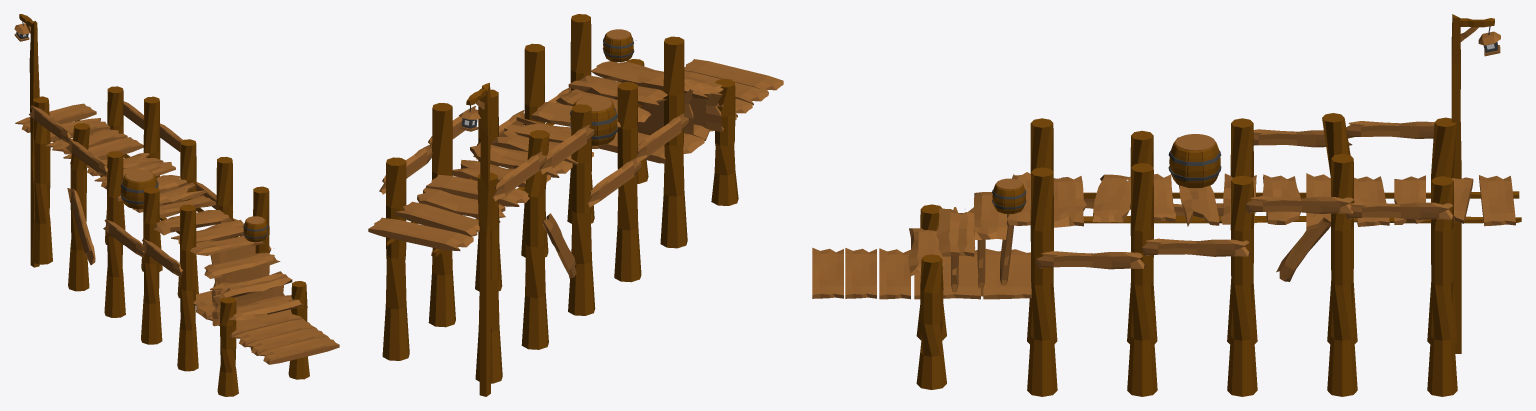
File: port.fbx
The picture shows the model from 3 angles, left to right: view 1: azimuth 30°, elevation 25°; view 2: azimuth 150°, elevation 25°; view 3: azimuth 270°, elevation 25°; orthographic projection. The views are drawn at different scales.
Visible parts, largest first — view 1: 圓柱體.009, 圓柱體.005, 圓柱體.007, 圓柱體.008, 圓柱體.006, 圓柱體.010, 立方體, Cube.018, 圓柱體.003, Cube.013, Cube.012, Cube.015 (+34 smaller); view 2: 圓柱體.006, 圓柱體.009, 圓柱體.007, 圓柱體.008, 圓柱體.004, 立方體, 圓柱體.003, 圓柱體.010, 圓柱體.005, Cube.014, 圓柱體.001, 圓柱體 (+26 smaller); view 3: 圓柱體.003, 圓柱體, 圓柱體.001, 圓柱體.004, 圓柱體.002, 圓柱體.011, 立方體, Cube.030, 圓柱體.007, 圓柱體.005, Cube.020, Cube.019 (+30 smaller).
Part boxes in pixels (box(x1,y1,x2,y2)): 圓柱體.009: box(177, 204, 198, 371); 圓柱體.005: box(31, 96, 52, 264); 圓柱體.007: box(104, 151, 125, 317); 圓柱體.008: box(141, 187, 162, 344); 圓柱體.006: box(68, 123, 89, 291); 圓柱體.010: box(217, 296, 238, 396); 立方體: box(29, 21, 39, 267); Cube.018: box(257, 336, 339, 364); 圓柱體.003: box(141, 96, 162, 271); Cube.013: box(210, 271, 292, 298); Cube.012: box(204, 252, 280, 278); Cube.015: box(229, 295, 303, 320); 圓柱體.006: box(521, 130, 549, 349); 圓柱體.009: box(660, 36, 687, 248); 圓柱體.007: box(568, 104, 595, 315); 圓柱體.008: box(614, 82, 641, 282); 圓柱體.004: box(382, 157, 409, 360); 立方體: box(479, 83, 491, 396); 圓柱體.003: box(428, 103, 455, 327); 圓柱體.010: box(711, 79, 738, 205); 圓柱體.005: box(475, 172, 502, 383); Cube.014: box(368, 217, 473, 250); 圓柱體.001: box(521, 43, 548, 257); 圓柱體: box(567, 14, 594, 223); 圓柱體.003: box(1327, 153, 1357, 396); 圓柱體: box(1027, 167, 1057, 396); 圓柱體.001: box(1127, 163, 1157, 396); 圓柱體.004: box(1427, 176, 1457, 396); 圓柱體.002: box(1227, 175, 1257, 396); 圓柱體.011: box(916, 254, 946, 389); 立方體: box(1451, 14, 1461, 353); Cube.030: box(983, 248, 1031, 299); 圓柱體.007: box(1227, 118, 1257, 344); 圓柱體.005: box(1427, 117, 1457, 343); Cube.020: box(1141, 238, 1252, 256); Cube.019: box(1036, 251, 1146, 269).
Size of the model in its own units: 266 by 663 by 1266.
